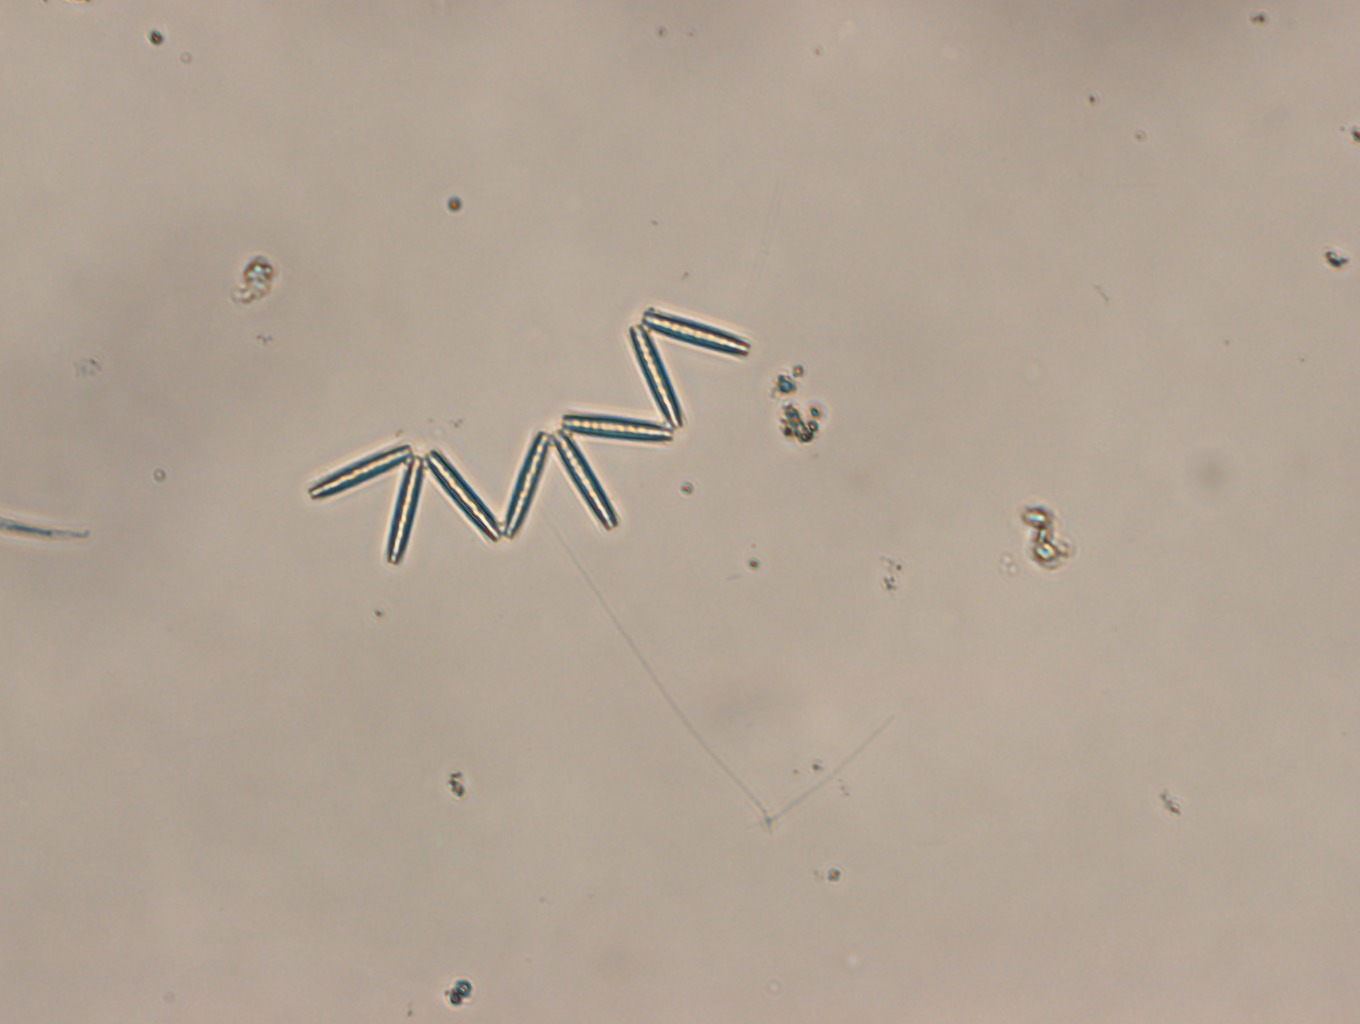thalassionema nitzschioides: (307, 307, 755, 566)
